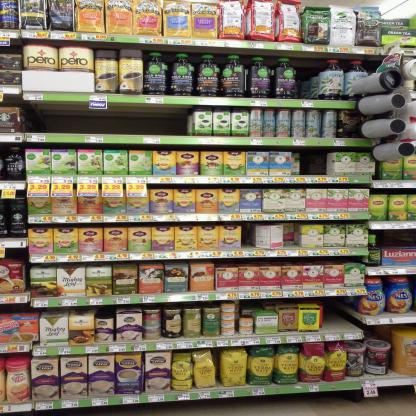Void: (28, 103, 177, 135), (325, 296, 354, 327), (299, 148, 323, 174), (382, 228, 406, 244), (242, 228, 255, 246)
